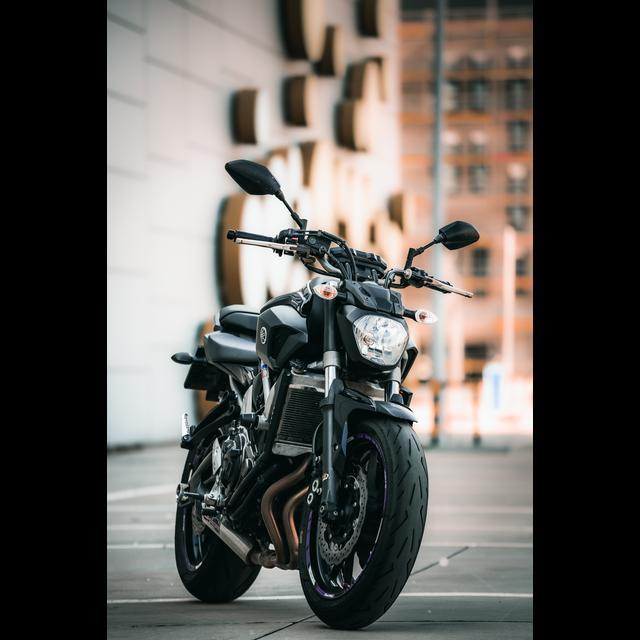motorcycle: (169, 157, 482, 636)
